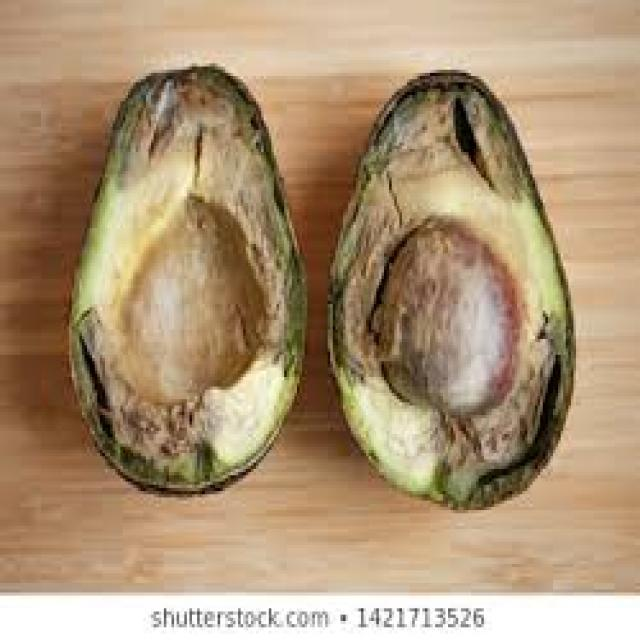organic waste: (325, 70, 576, 510), (61, 63, 308, 494), (371, 212, 517, 412)
